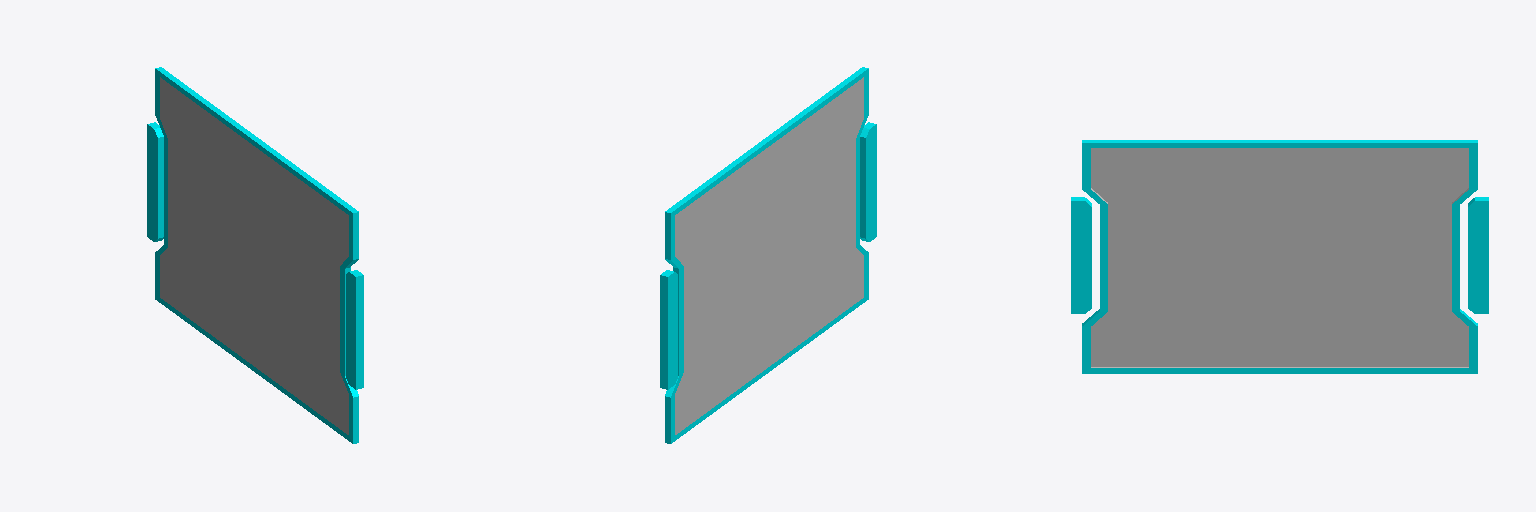
The model's file is UI_ObjectInfo.obj.
3 views of the same model, side by side, from view 1: azimuth 30°, elevation 25°; view 2: azimuth 150°, elevation 25°; view 3: azimuth 270°, elevation 25° (orthographic).
Visible parts, largest first — view 1: UI_ObjectInfo, Bar_Left, Bar_Right; view 2: UI_ObjectInfo, Bar_Right, Bar_Left; view 3: UI_ObjectInfo, Bar_Left, Bar_Right.
Part boxes in pixels (x1,y1,x2,y2): UI_ObjectInfo: (155,67,358,443); Bar_Left: (346,270,363,389); Bar_Right: (147,122,163,241); UI_ObjectInfo: (665,67,868,443); Bar_Right: (660,270,677,389); Bar_Left: (860,122,876,241); UI_ObjectInfo: (1082,140,1477,373); Bar_Left: (1071,197,1091,313); Bar_Right: (1468,197,1488,313).
Bounding box in the file's own units: 0.0293 × 0.7378 × 1.21.